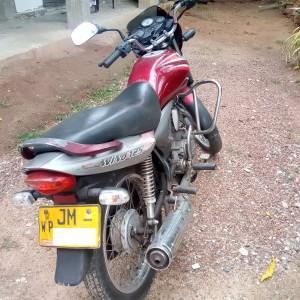motorbike: (12, 1, 223, 300)
